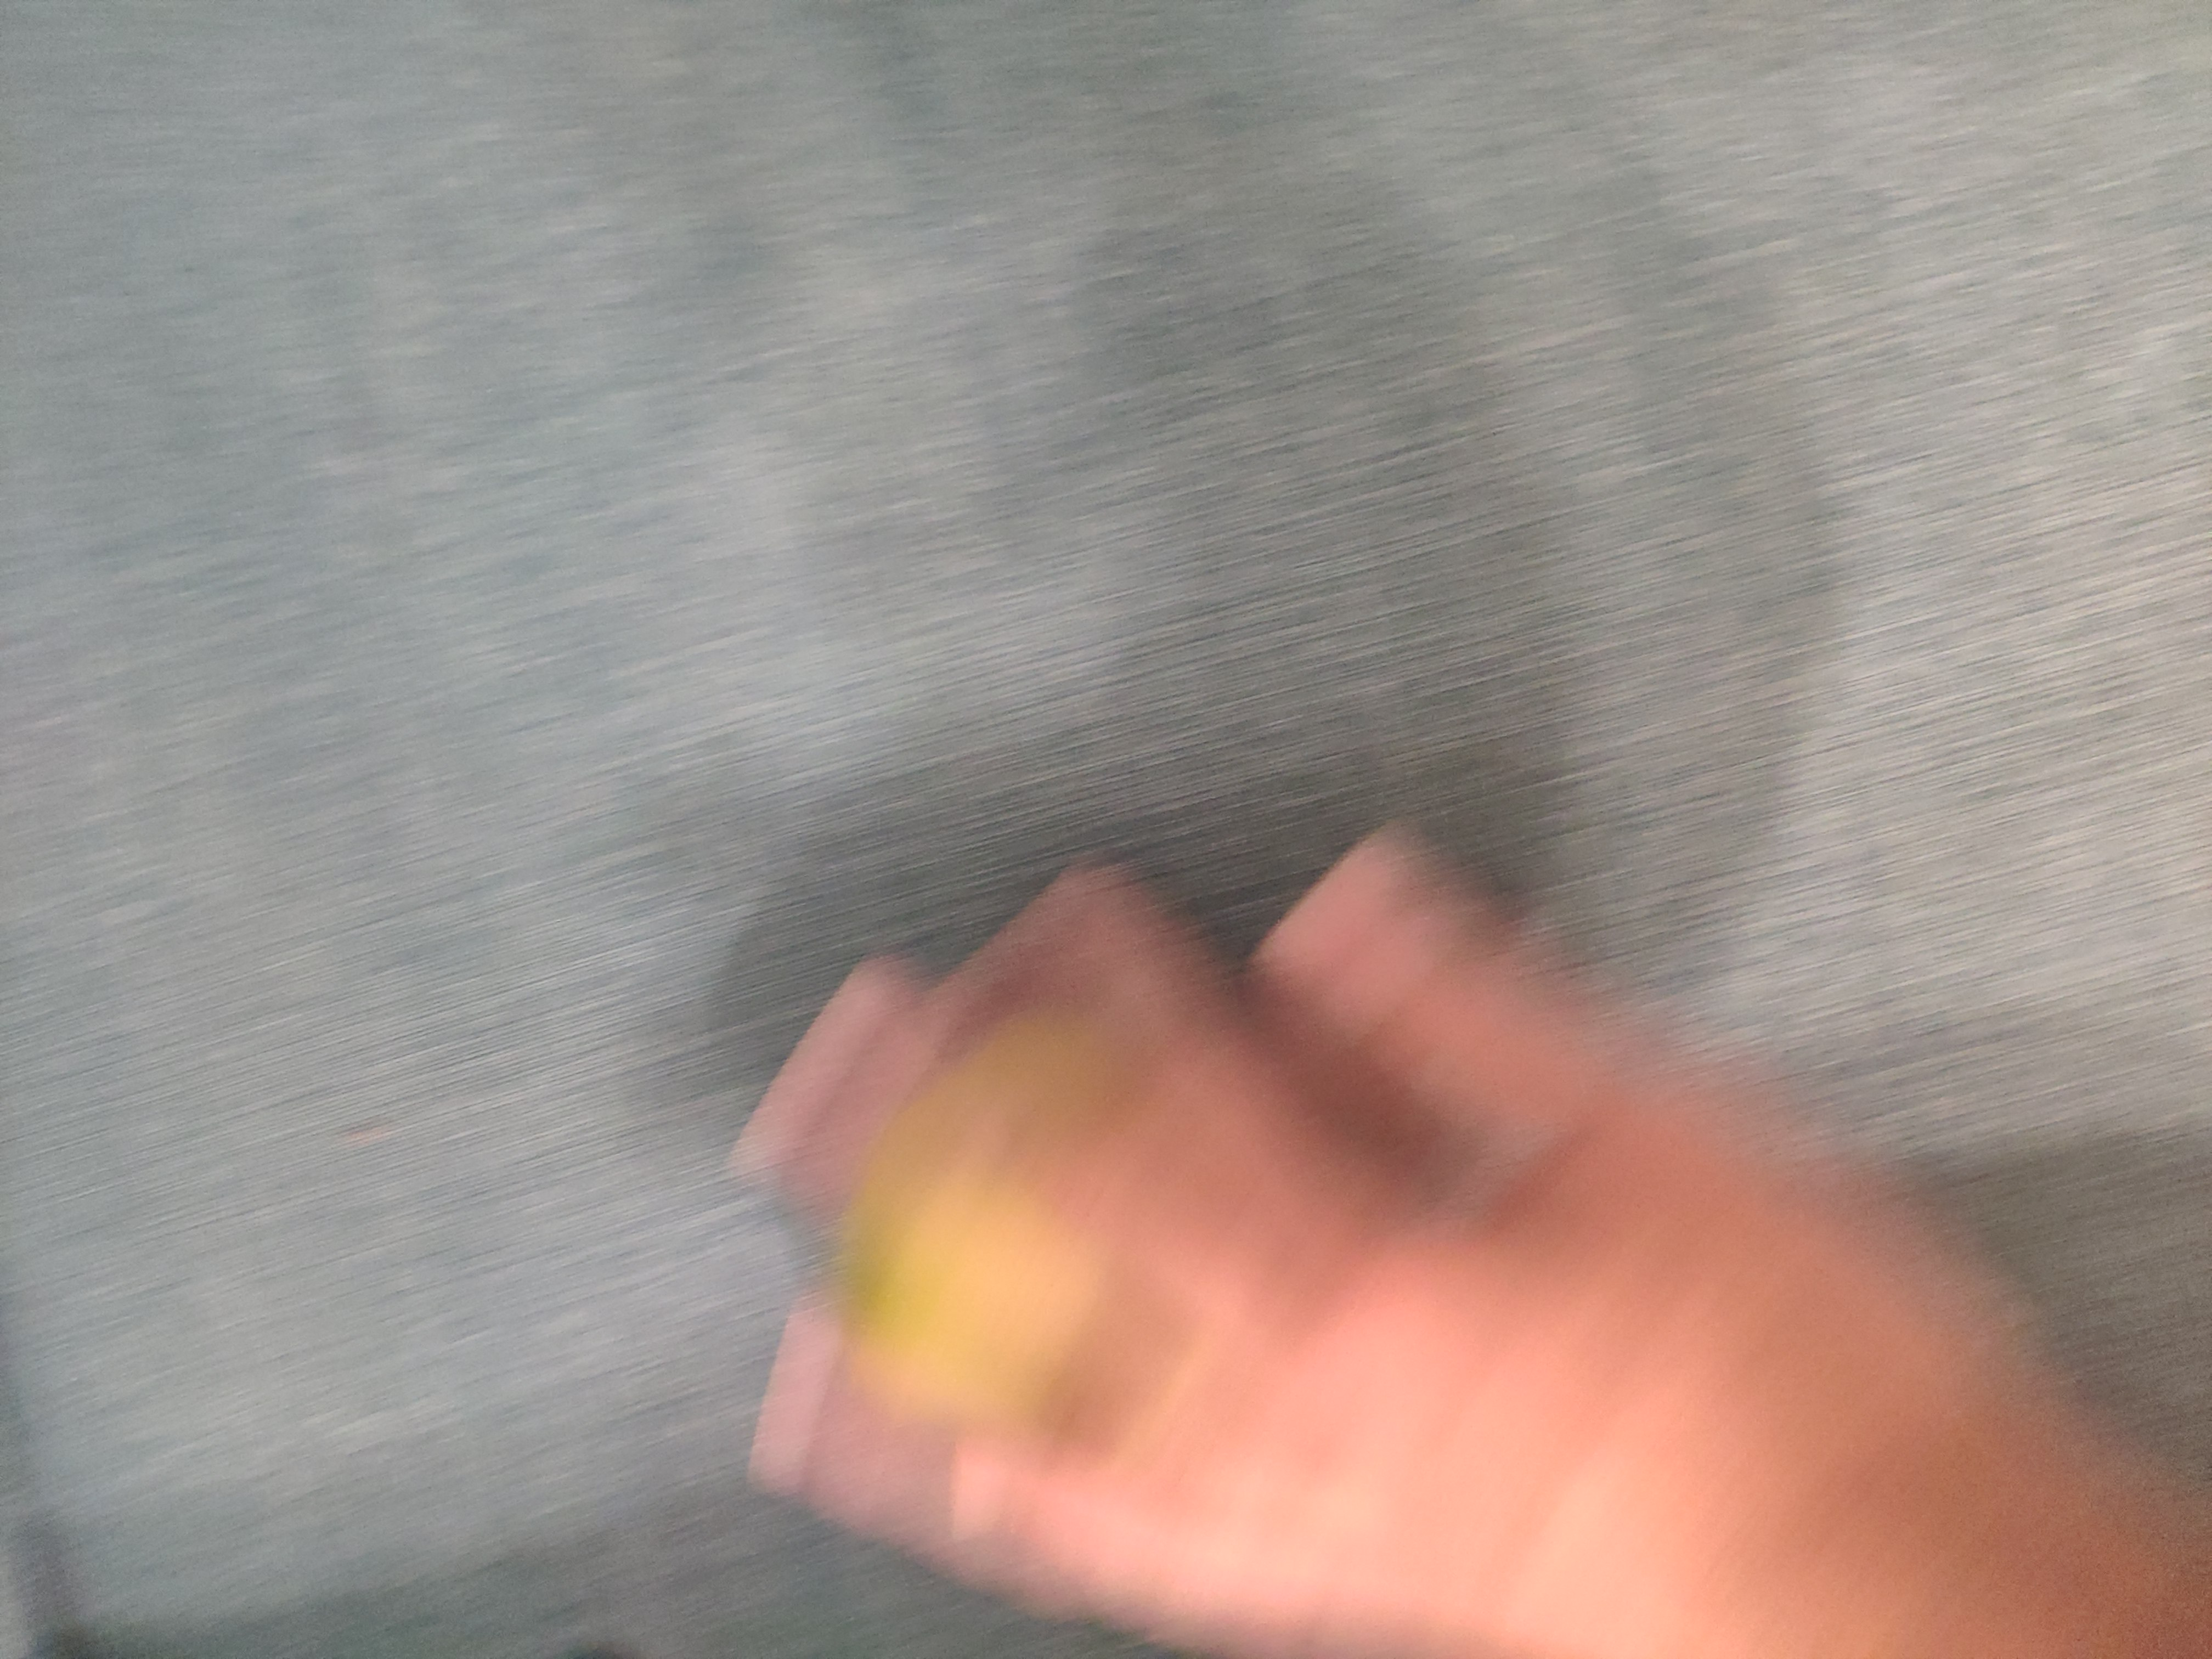apple: (685, 908, 1458, 1445)
